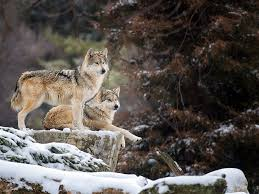Lobo: (10, 46, 107, 133), (98, 84, 141, 147)
